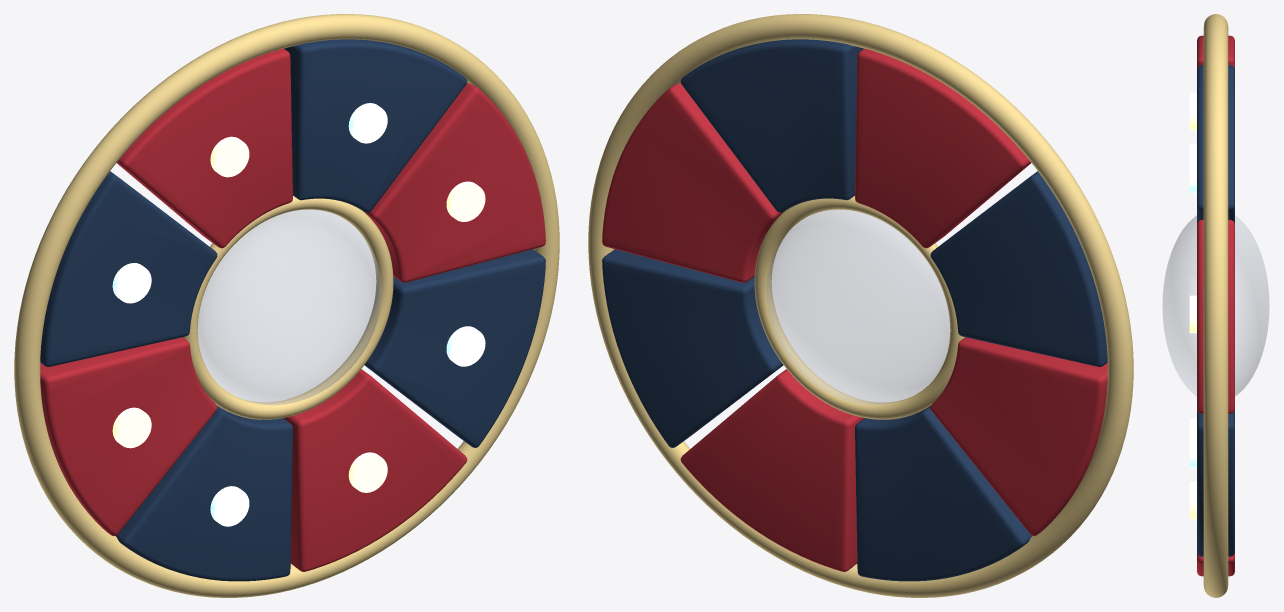
File: app-wheel.glb
3 renders of one model, left to right at view 1: azimuth 30°, elevation 25°; view 2: azimuth 150°, elevation 25°; view 3: azimuth 270°, elevation 25°, orthographic. The views are drawn at different scales.
Parts seen in each view (by area): view 1: Rim, Dome, app:photos, app:music, app:settings, app:store, app:browser, app:terminal, app:files, app:notes, HubRing, mark-browser (+7 smaller); view 2: Rim, Dome, app:photos, app:music, app:settings, app:store, app:browser, app:terminal, app:files, app:notes, HubRing; view 3: Rim, Dome, app:browser, app:store, app:photos, app:files, mark-browser, mark-files, mark-music, mark-photos, mark-store, app:music.
Boxes of the visible parts, x1,y1,x2,y2 form: Rim: (14, 14, 559, 597); Dome: (198, 210, 381, 404); app:photos: (364, 249, 545, 447); app:music: (283, 369, 467, 571); app:settings: (40, 337, 217, 535); app:store: (284, 39, 467, 212); app:browser: (363, 83, 545, 282); app:terminal: (116, 406, 292, 581); app:files: (117, 48, 292, 248); app:notes: (40, 171, 217, 366); HubRing: (183, 196, 393, 419); mark-browser: (446, 181, 485, 221); Rim: (588, 14, 1133, 597); Dome: (766, 210, 949, 404); app:photos: (602, 249, 783, 447); app:music: (680, 369, 864, 571); app:settings: (930, 337, 1107, 535); app:store: (680, 39, 863, 212); app:browser: (602, 83, 784, 282); app:terminal: (855, 406, 1031, 581); app:files: (855, 48, 1030, 248); app:notes: (930, 171, 1107, 366); HubRing: (754, 196, 964, 419); Rim: (1203, 14, 1228, 597); Dome: (1162, 215, 1269, 396); app:browser: (1197, 219, 1234, 413); app:store: (1197, 65, 1234, 223); app:photos: (1197, 410, 1234, 556); app:files: (1197, 35, 1234, 68); mark-browser: (1189, 295, 1196, 333); mark-files: (1189, 92, 1196, 130); mark-music: (1189, 481, 1196, 519); mark-photos: (1189, 430, 1196, 468); mark-store: (1189, 155, 1196, 193); app:music: (1197, 552, 1234, 576).
Size of the model in its own units: 2.16 by 2.16 by 0.396.
